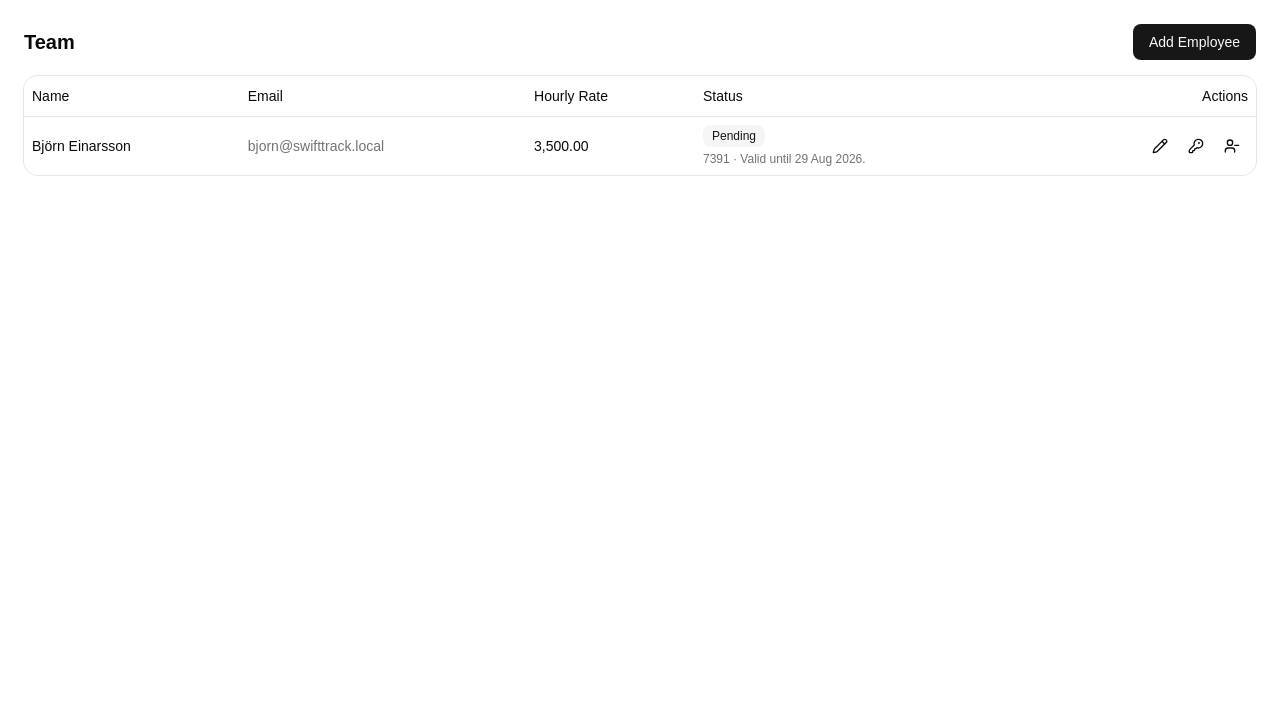
Test: TeamPage — the setup code and its expiry › surfaces the admin's wording when the list is stale, not the employee's
The image size is (1280, 720).
Click the button named "New code" at (1196, 146), box x1=1180 y1=130 x2=1212 y2=162
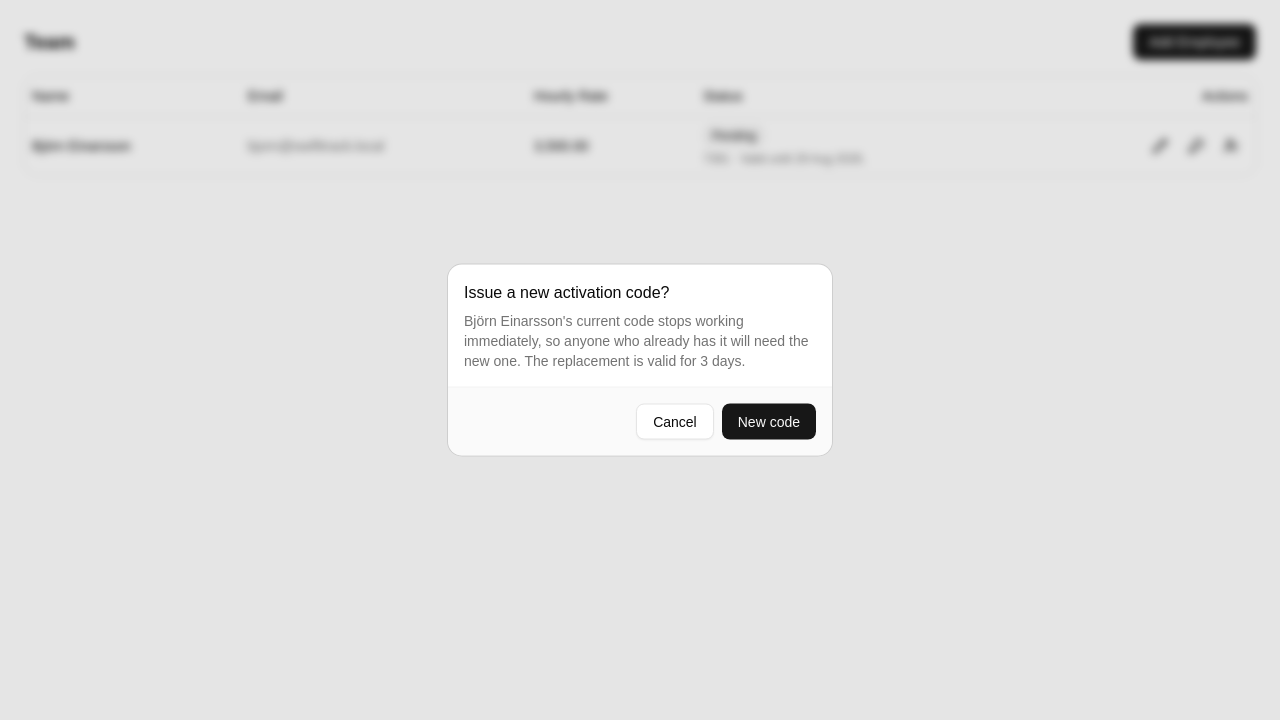
Click the button "New code" at (769, 422), box x1=722 y1=404 x2=816 y2=440
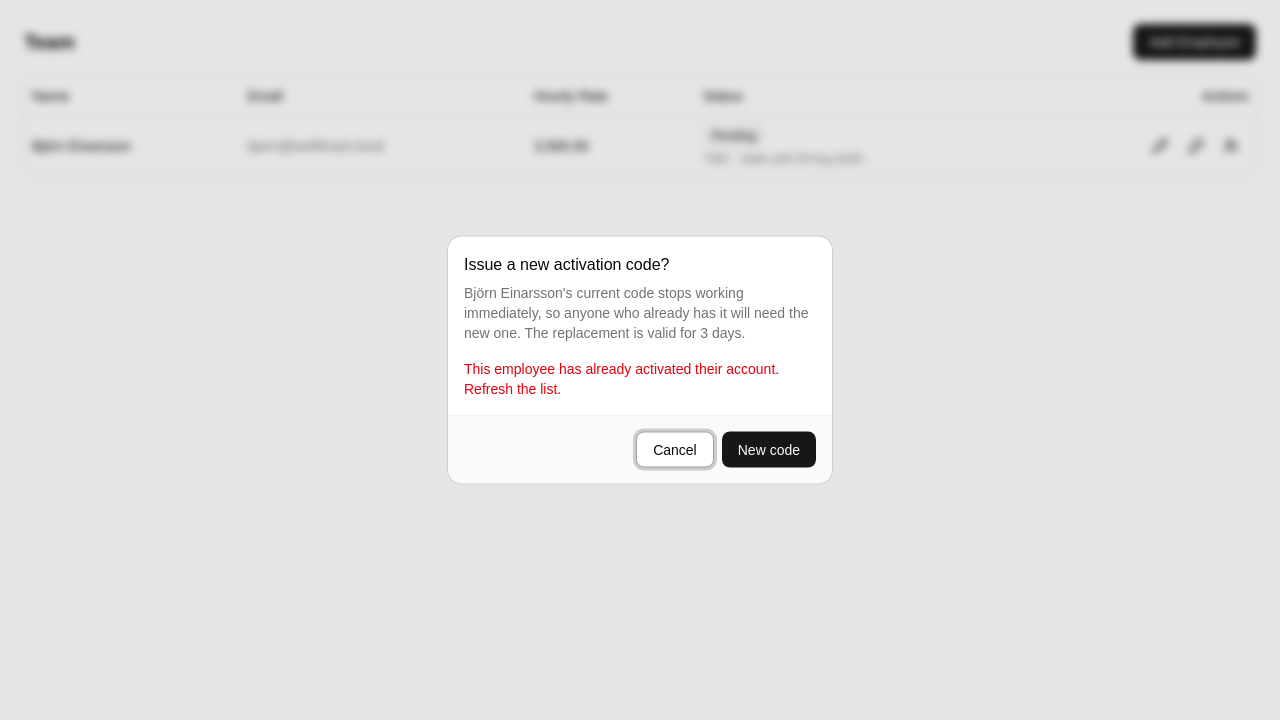
expect the dialog is shown: met, box x1=448 y1=236 x2=832 y2=484
expect the message reads "This employee has already activated their account. Refresh the list.": met, box x1=464 y1=360 x2=779 y2=396
